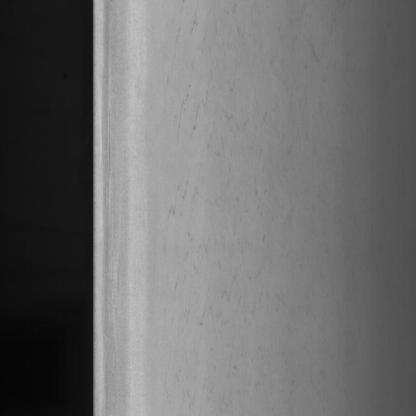silk_spot: (167, 12, 255, 351)
